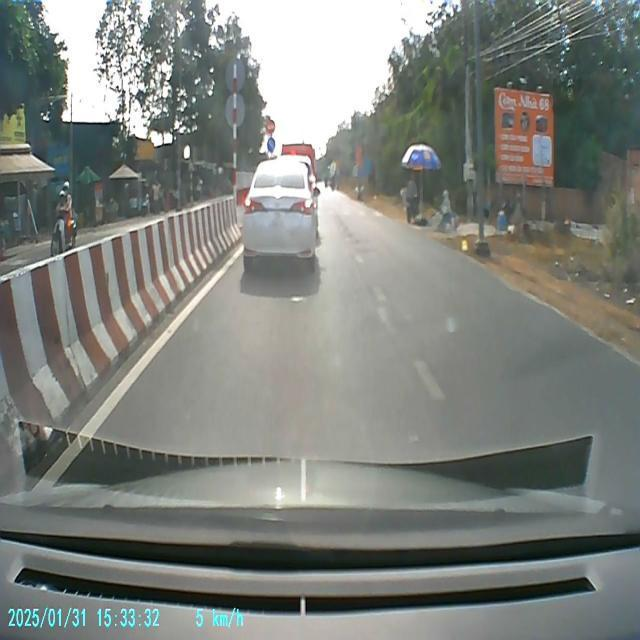102-cam-di-nguoc-chieu: (266, 119, 276, 134)
302a-huong-phai-di-vong-chuong-ngai-vat-1: (267, 137, 276, 153)
